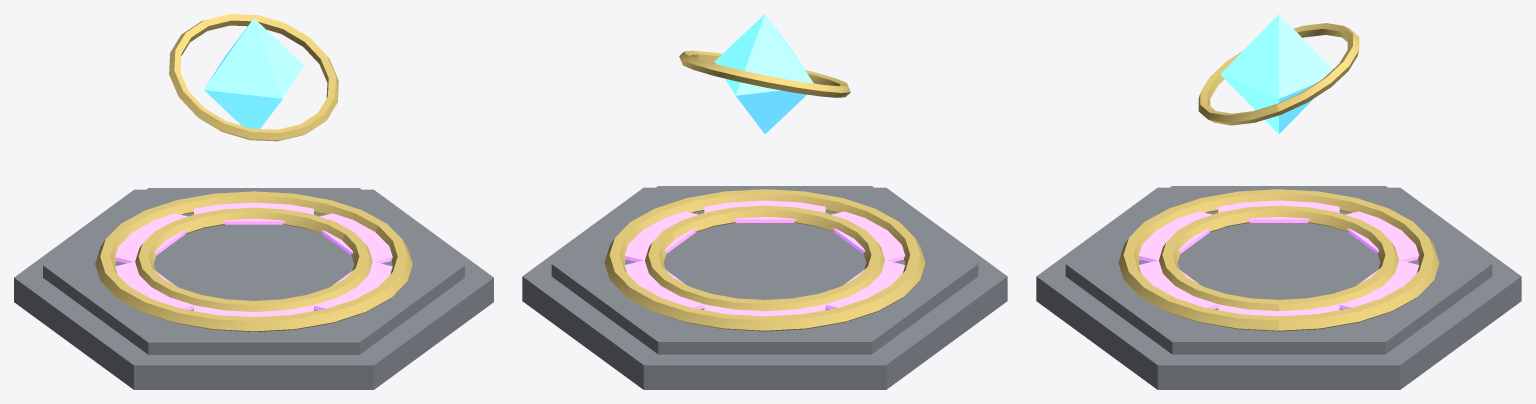
File: pickups-and-collectibles-spawner-pad-7adb595b__19983.glb
3 views of the same model, side by side, from view 1: azimuth 30°, elevation 25°; view 2: azimuth 150°, elevation 25°; view 3: azimuth 270°, elevation 25° (orthographic).
Parts seen in each view (by area): view 1: base/iron, ring/gold, base/arcane, core/gem, core/gold; view 2: base/iron, ring/gold, base/arcane, core/gem, core/gold; view 3: base/iron, ring/gold, base/arcane, core/gem, core/gold.
Part boxes in pixels (x1,y1,x2,y2): base/iron: [14, 188, 493, 389]; ring/gold: [95, 191, 412, 331]; base/arcane: [115, 202, 392, 316]; core/gem: [204, 18, 303, 128]; core/gold: [169, 14, 338, 141]; base/iron: [522, 186, 1007, 389]; ring/gold: [604, 189, 925, 331]; base/arcane: [624, 200, 905, 316]; core/gem: [714, 14, 813, 133]; core/gold: [679, 50, 850, 97]; base/iron: [1036, 186, 1521, 389]; ring/gold: [1118, 189, 1439, 331]; base/arcane: [1138, 200, 1419, 316]; core/gem: [1220, 14, 1332, 133]; core/gold: [1198, 23, 1359, 125].
Size of the model in its own units: 1.07 by 0.81 by 1.24.
